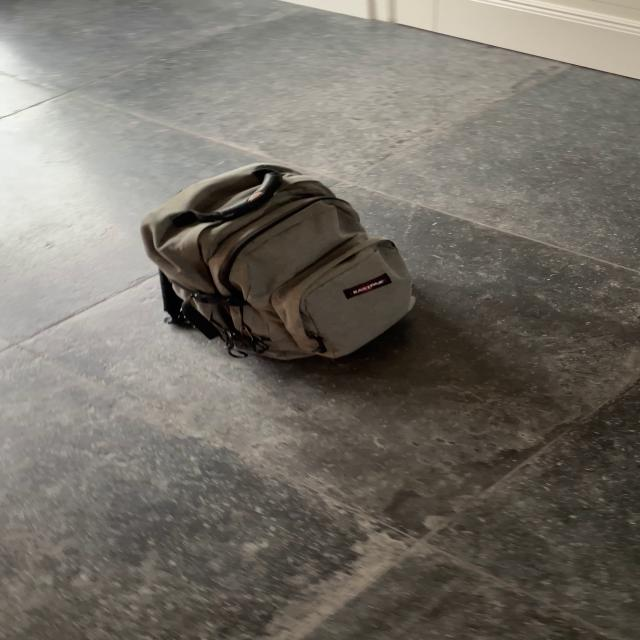backpack: (130, 158, 422, 368)
